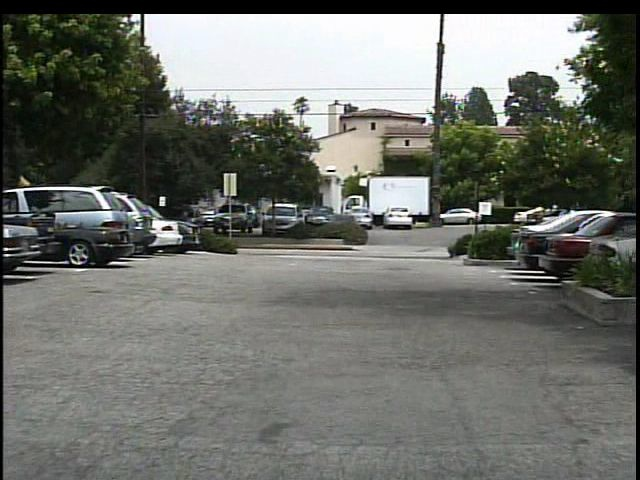person: (176, 207, 195, 245)
